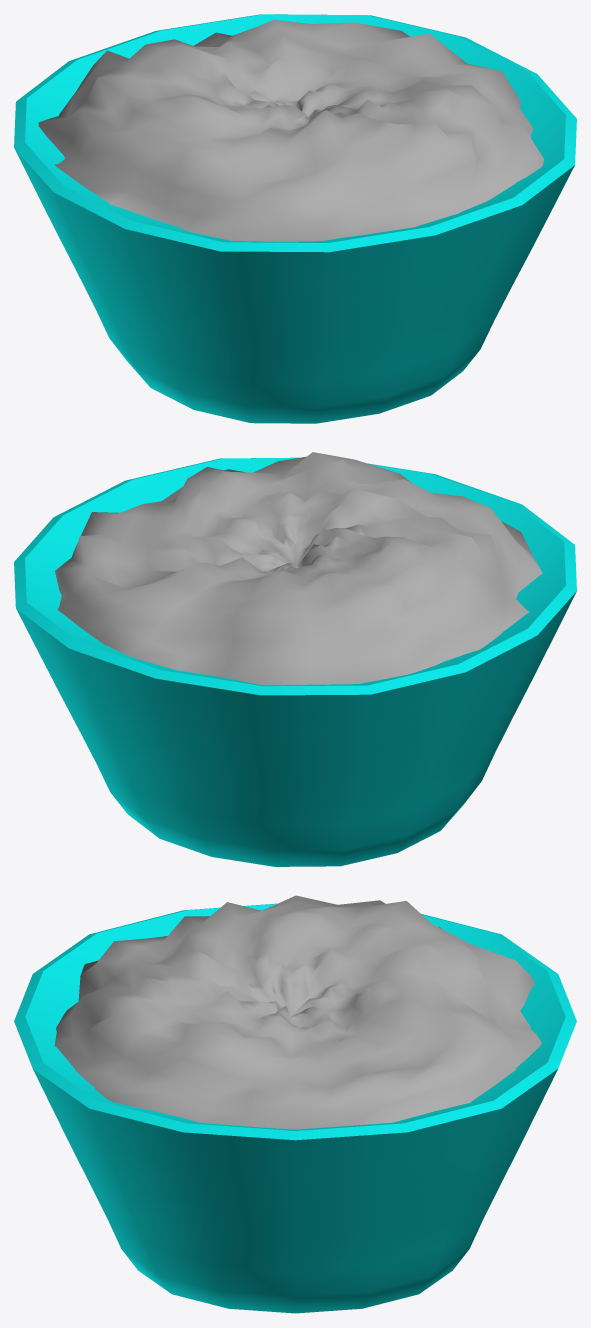
File: crab.fbx
3 views of the same model, one above another, from view 1: azimuth 30°, elevation 25°; view 2: azimuth 150°, elevation 25°; view 3: azimuth 270°, elevation 25° (orthographic).
Visible parts, largest first — view 1: crab; view 2: crab; view 3: crab.
Part boxes in pixels (x1,y1,x2,y2): crab: (14, 14, 576, 423); crab: (14, 452, 576, 866); crab: (14, 895, 576, 1313).
Size of the model in its own units: 1.16 by 0.668 by 1.16.
